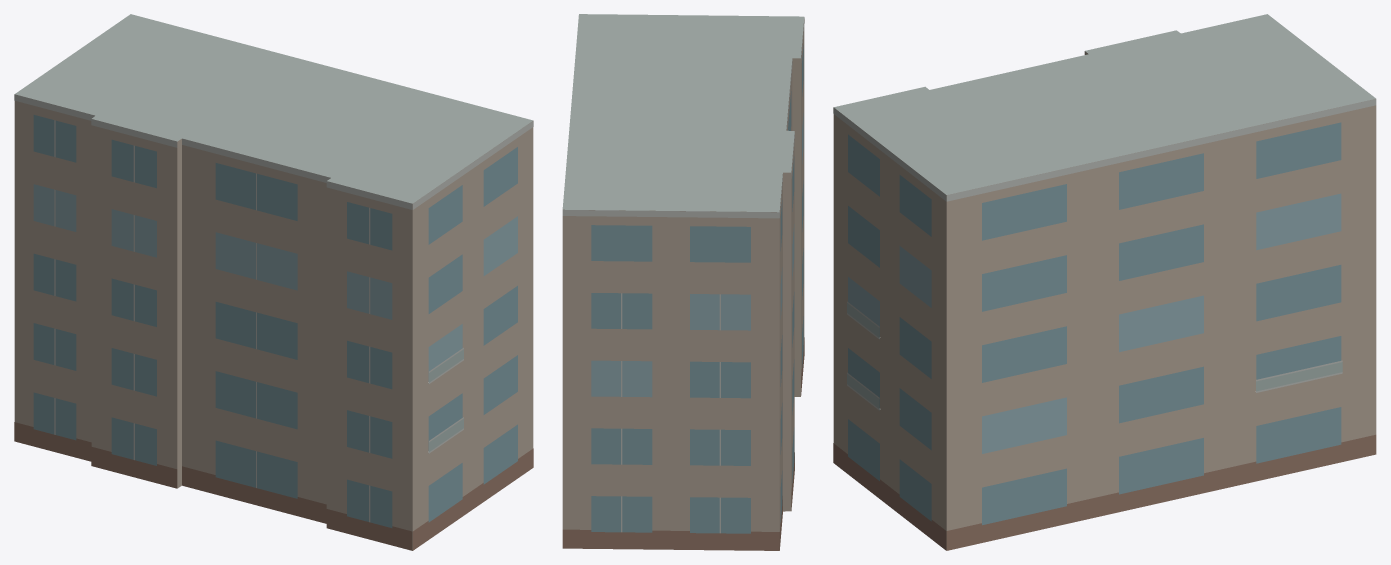
The model's file is survey-upis-32638579.glb.
3 views of the same model, side by side, from view 1: azimuth 30°, elevation 25°; view 2: azimuth 150°, elevation 25°; view 3: azimuth 270°, elevation 25° (orthographic). The views are drawn at different scales.
Parts seen in each view (by area): view 1: survey-upis-32638579.tmp; view 2: survey-upis-32638579.tmp; view 3: survey-upis-32638579.tmp.
Boxes of the visible parts, x1,y1,x2,y2 form: survey-upis-32638579.tmp: (14, 14, 533, 550); survey-upis-32638579.tmp: (562, 14, 804, 550); survey-upis-32638579.tmp: (833, 14, 1376, 550).
Size of the model in its own units: 14.48 by 13.25 by 18.34.
